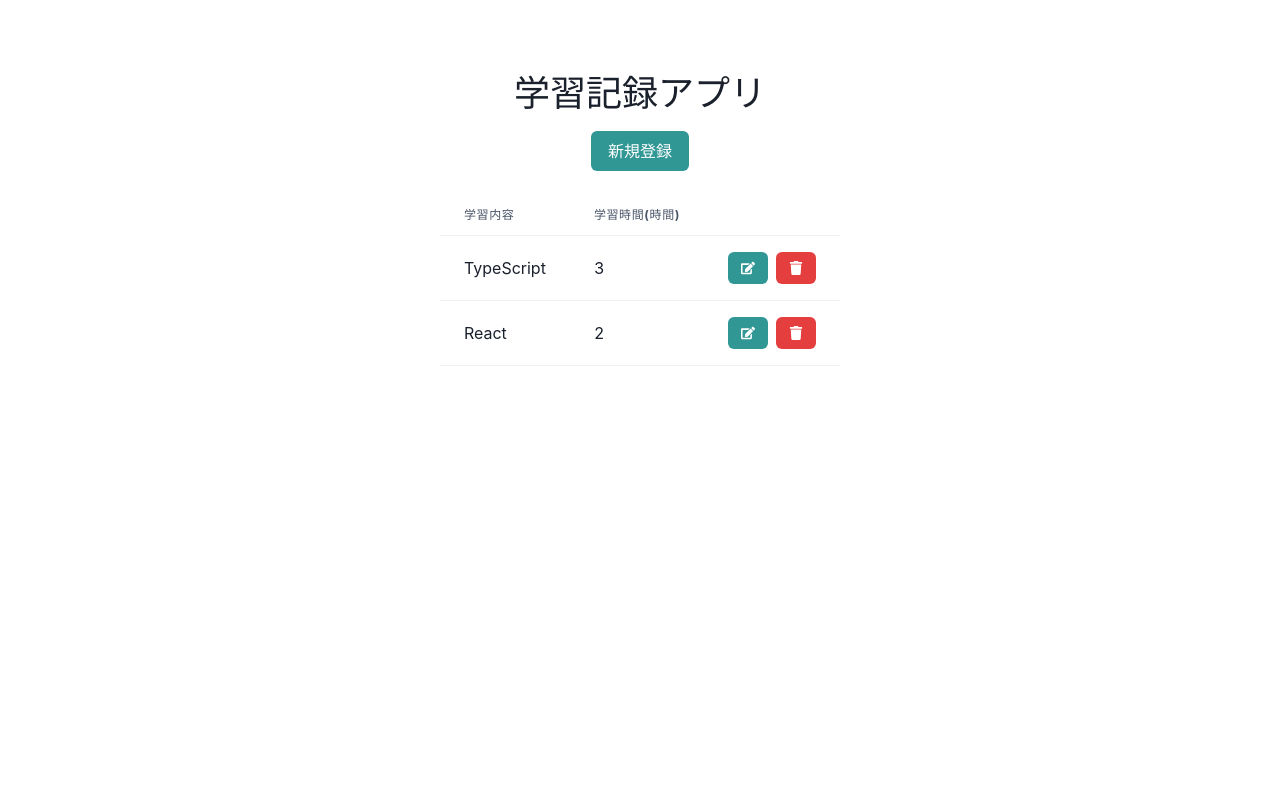
Scenario: 編集機能 › 別の編集ボタンを押すとその記録の内容に切り替わる
Expected: the table is shown, [440,195,840,366]
# 1つ目の編集ボタンを押す
Click the 2nd button. click: (748, 268)
box: [728,252,768,284]
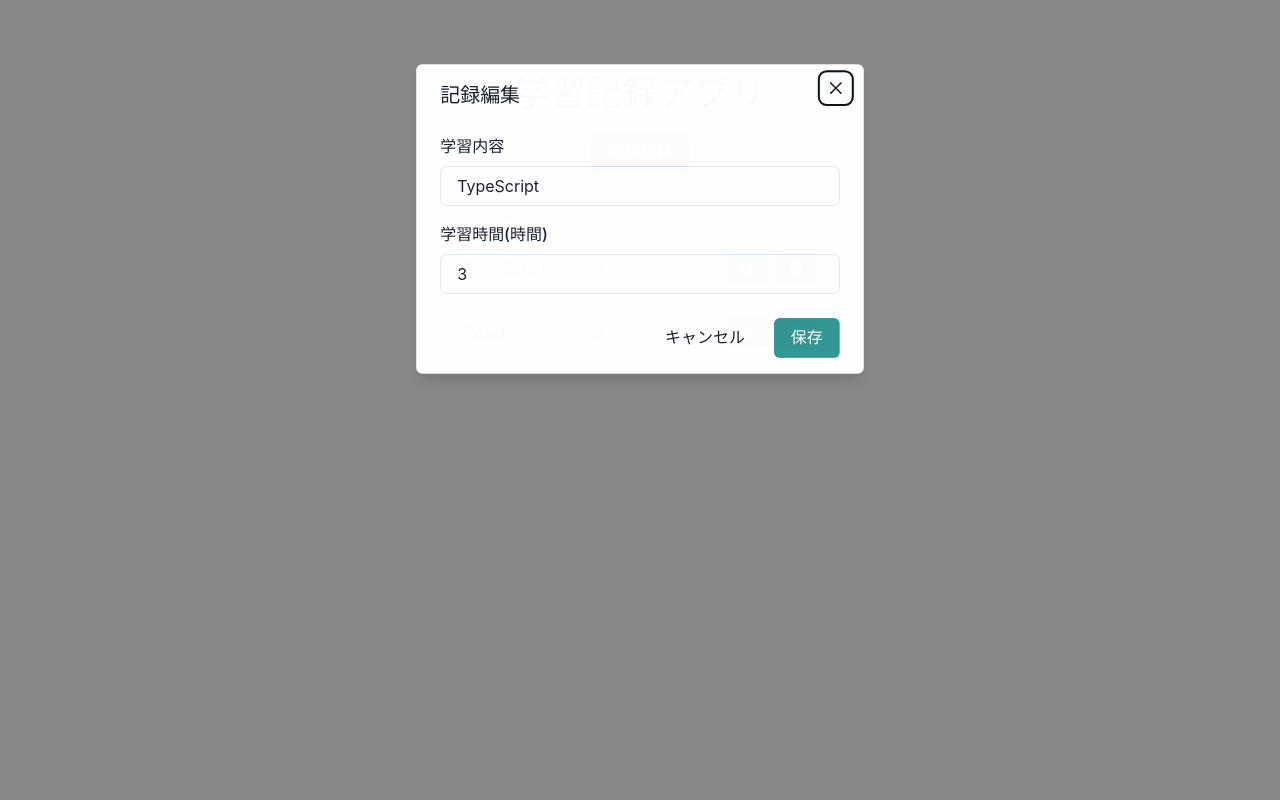
Result: the field with placeholder "例: TypeScript" holds "TypeScript" at [440,166,840,206]
# モーダルを閉じる
Click the button "キャンセル". click: (705, 338)
box: [648,318,762,358]
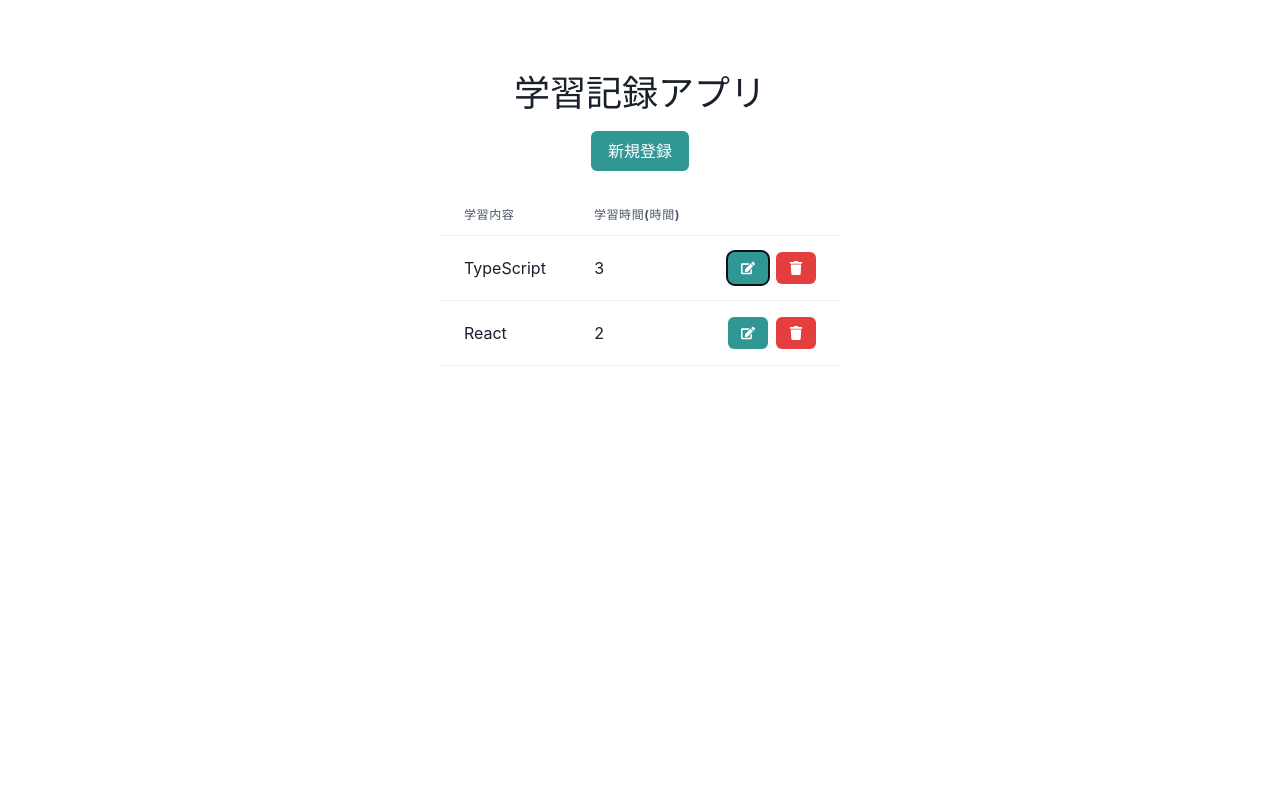
Result: the dialog is gone
# 2つ目の編集ボタンを押す
Click the 4th button. click: (748, 333)
box: [728,317,768,349]
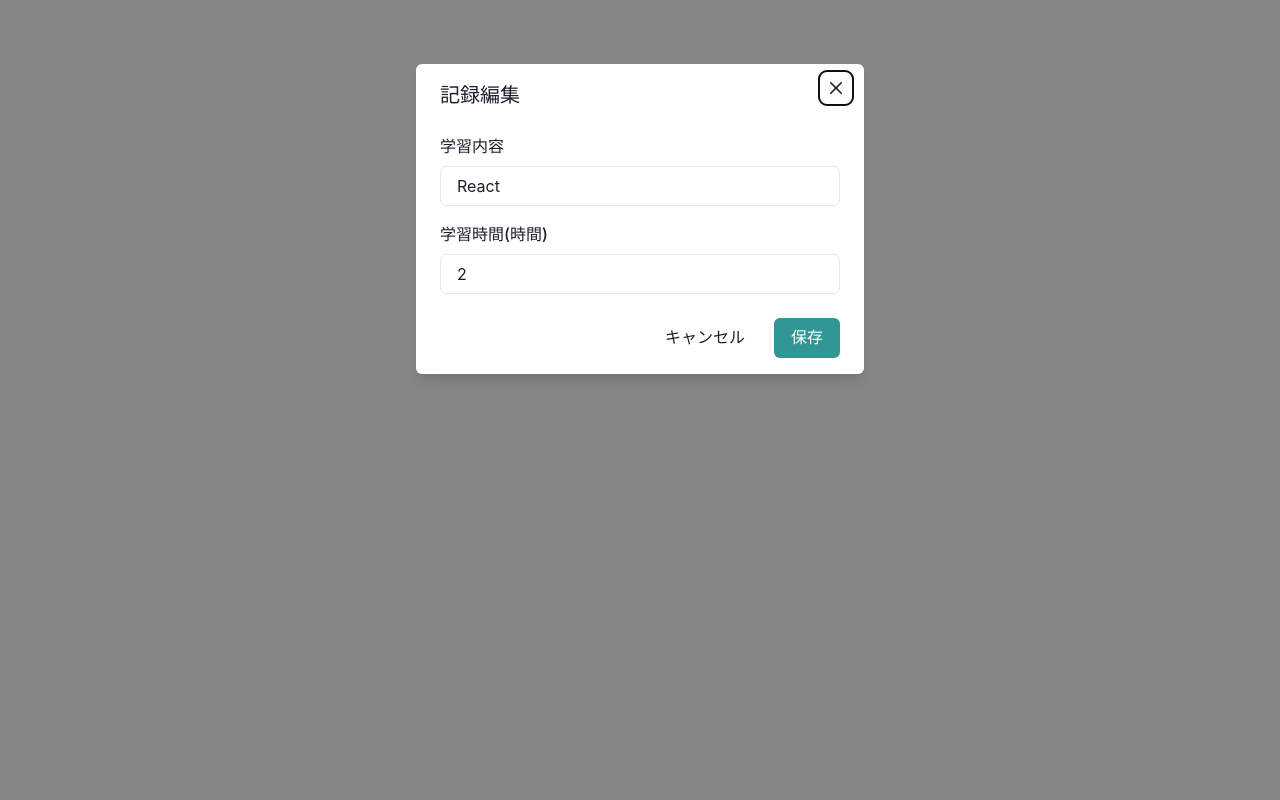
Result: the field with placeholder "例: TypeScript" holds "React" at [440,166,840,206]
Result: the number field with placeholder "例: 2" holds "2" at [440,254,840,294]
